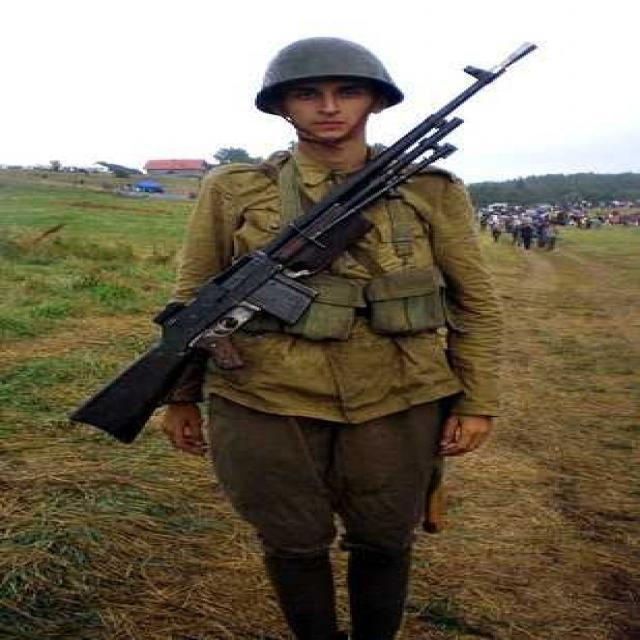weapon: (70, 18, 556, 447)
